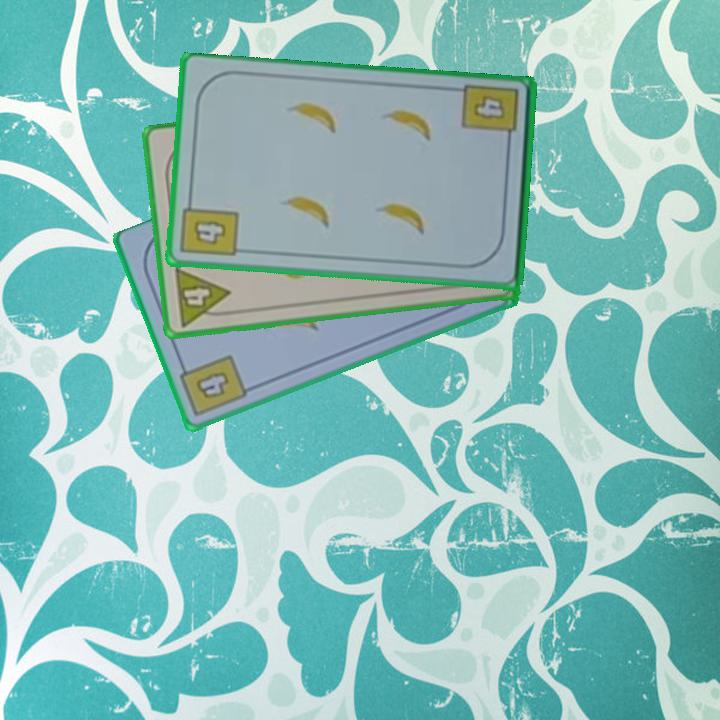4b: (175, 351, 250, 420), (459, 82, 522, 150), (177, 194, 241, 260)
4p: (171, 264, 235, 329)
